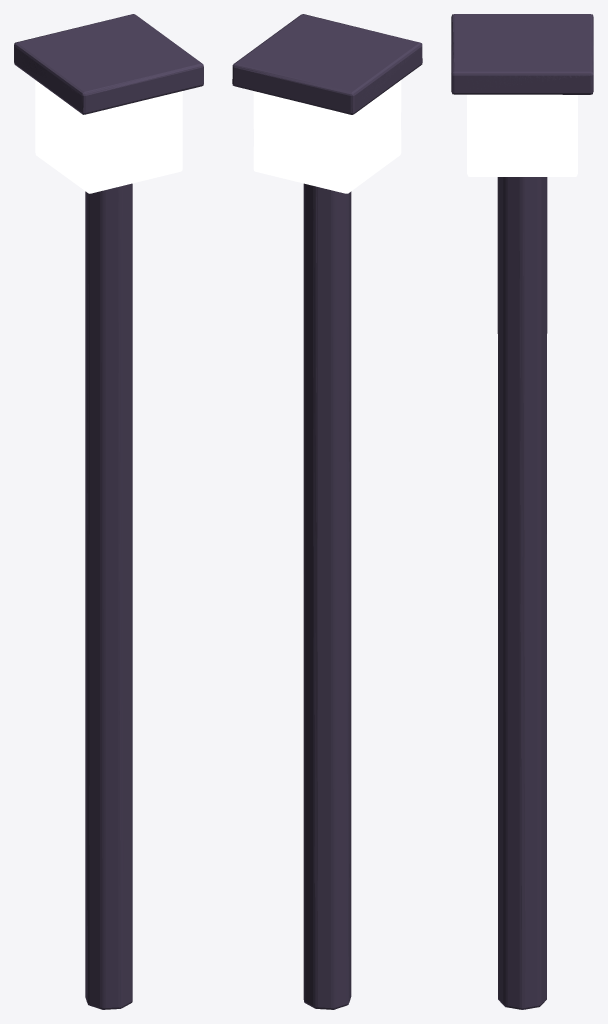
Rendered from SM_Labor_Lamp.fbx.
The picture shows the model from 3 angles, left to right: view 1: azimuth 30°, elevation 25°; view 2: azimuth 150°, elevation 25°; view 3: azimuth 270°, elevation 25°; orthographic projection.
Visible parts, largest first — view 1: LOD0_SM_Labor_Lamp, LOD1_SM_Labor_Lamp, LOD2_SM_Labor_Lamp; view 2: LOD0_SM_Labor_Lamp, LOD1_SM_Labor_Lamp, LOD2_SM_Labor_Lamp; view 3: LOD0_SM_Labor_Lamp, LOD1_SM_Labor_Lamp, LOD2_SM_Labor_Lamp.
Part boxes in pixels (x1,y1,x2,y2): LOD0_SM_Labor_Lamp: (14, 14, 203, 1009); LOD1_SM_Labor_Lamp: (14, 14, 203, 1009); LOD2_SM_Labor_Lamp: (14, 25, 203, 1008); LOD0_SM_Labor_Lamp: (232, 14, 422, 1009); LOD1_SM_Labor_Lamp: (232, 22, 422, 1009); LOD2_SM_Labor_Lamp: (233, 14, 422, 1009); LOD0_SM_Labor_Lamp: (451, 14, 593, 1009); LOD1_SM_Labor_Lamp: (451, 14, 593, 1009); LOD2_SM_Labor_Lamp: (452, 14, 592, 1009).
Bounding box in the file's own units: 0.45 × 3.34 × 0.45.
